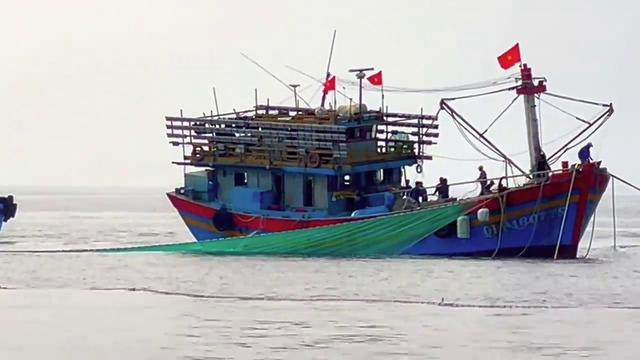Ship: (167, 74, 610, 264)
